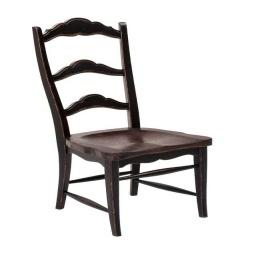Chair: (32, 17, 212, 234)
